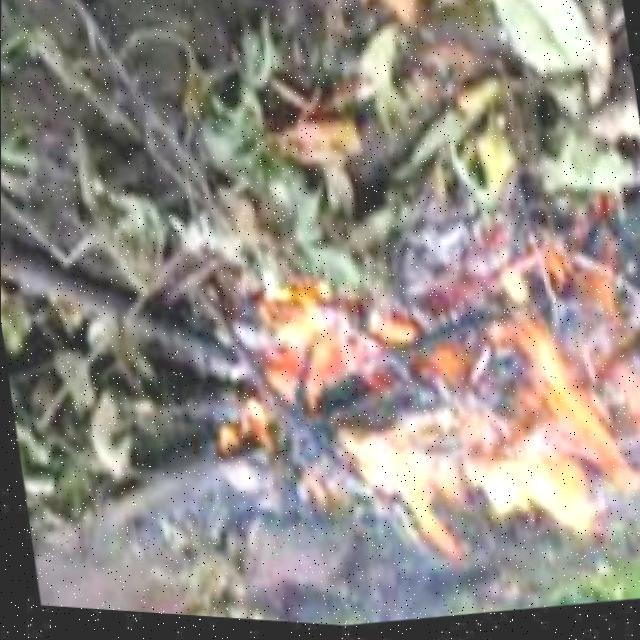fire: (220, 220, 640, 588)
